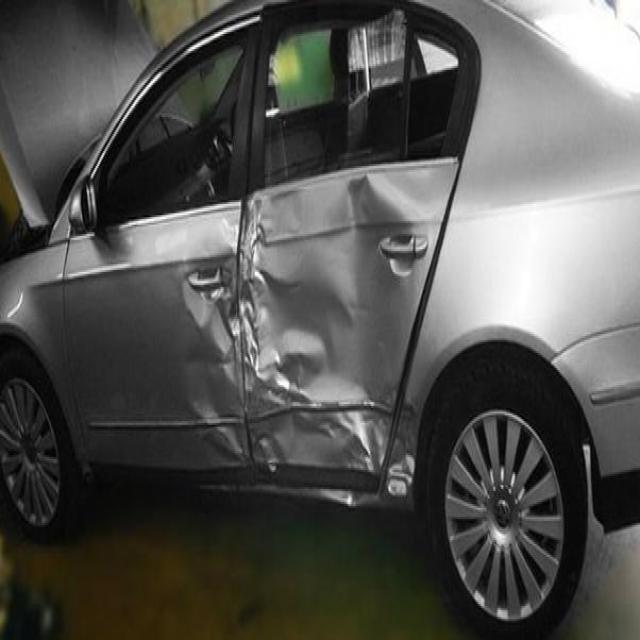dent: (194, 210, 430, 514)
